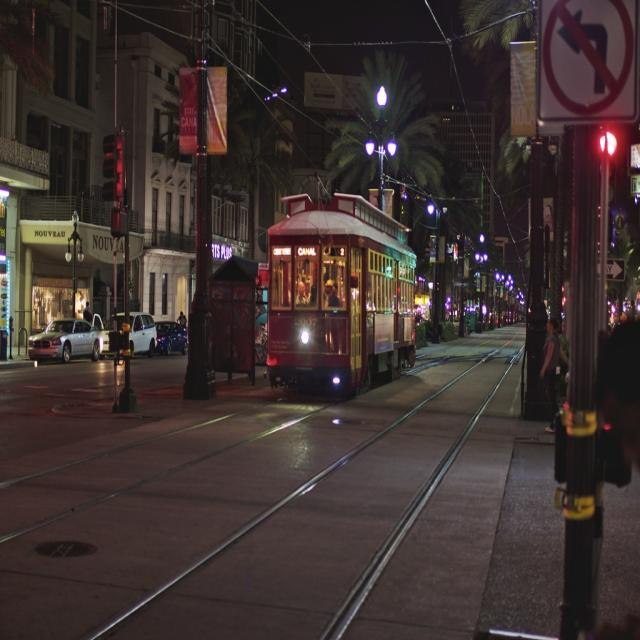off traffic light: (97, 133, 124, 203)
road_sign: (540, 0, 637, 120)
